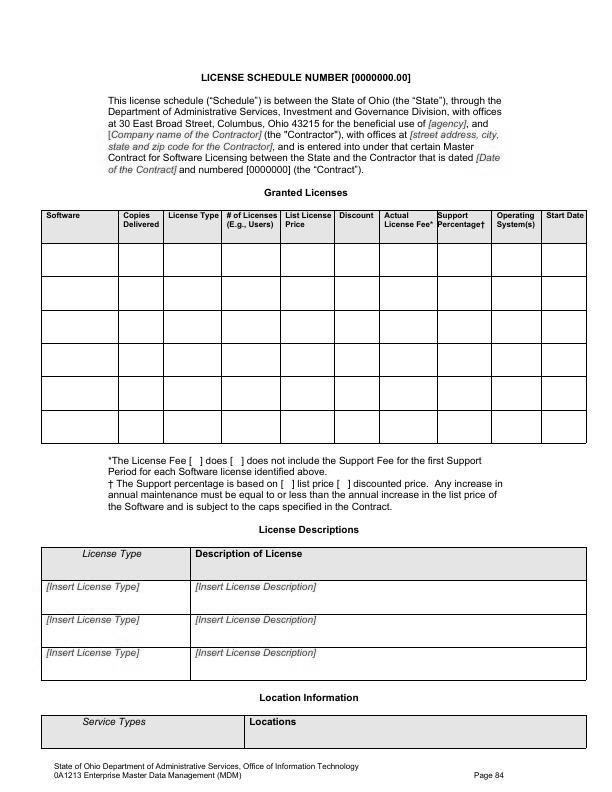table: (37, 207, 594, 447), (36, 544, 589, 684), (38, 713, 592, 752)
text: (101, 63, 510, 180), (103, 452, 510, 516), (47, 758, 364, 784), (258, 184, 354, 202), (256, 521, 363, 537), (256, 692, 364, 707), (467, 764, 513, 781)
